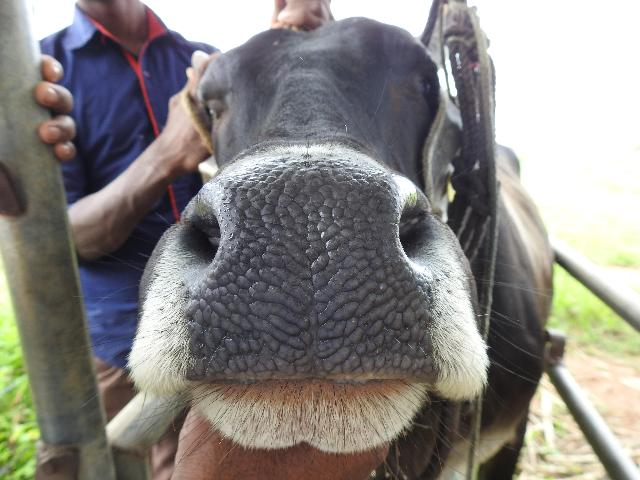Muzzle: (198, 168, 418, 372)
